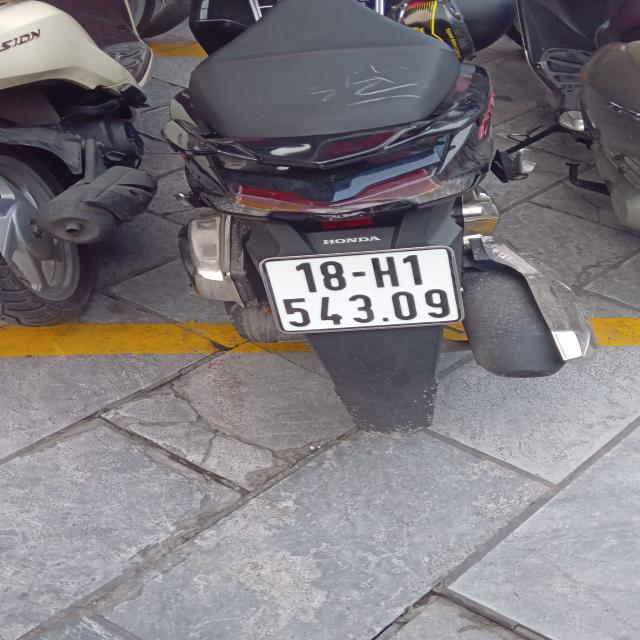License: (258, 245, 464, 334)
